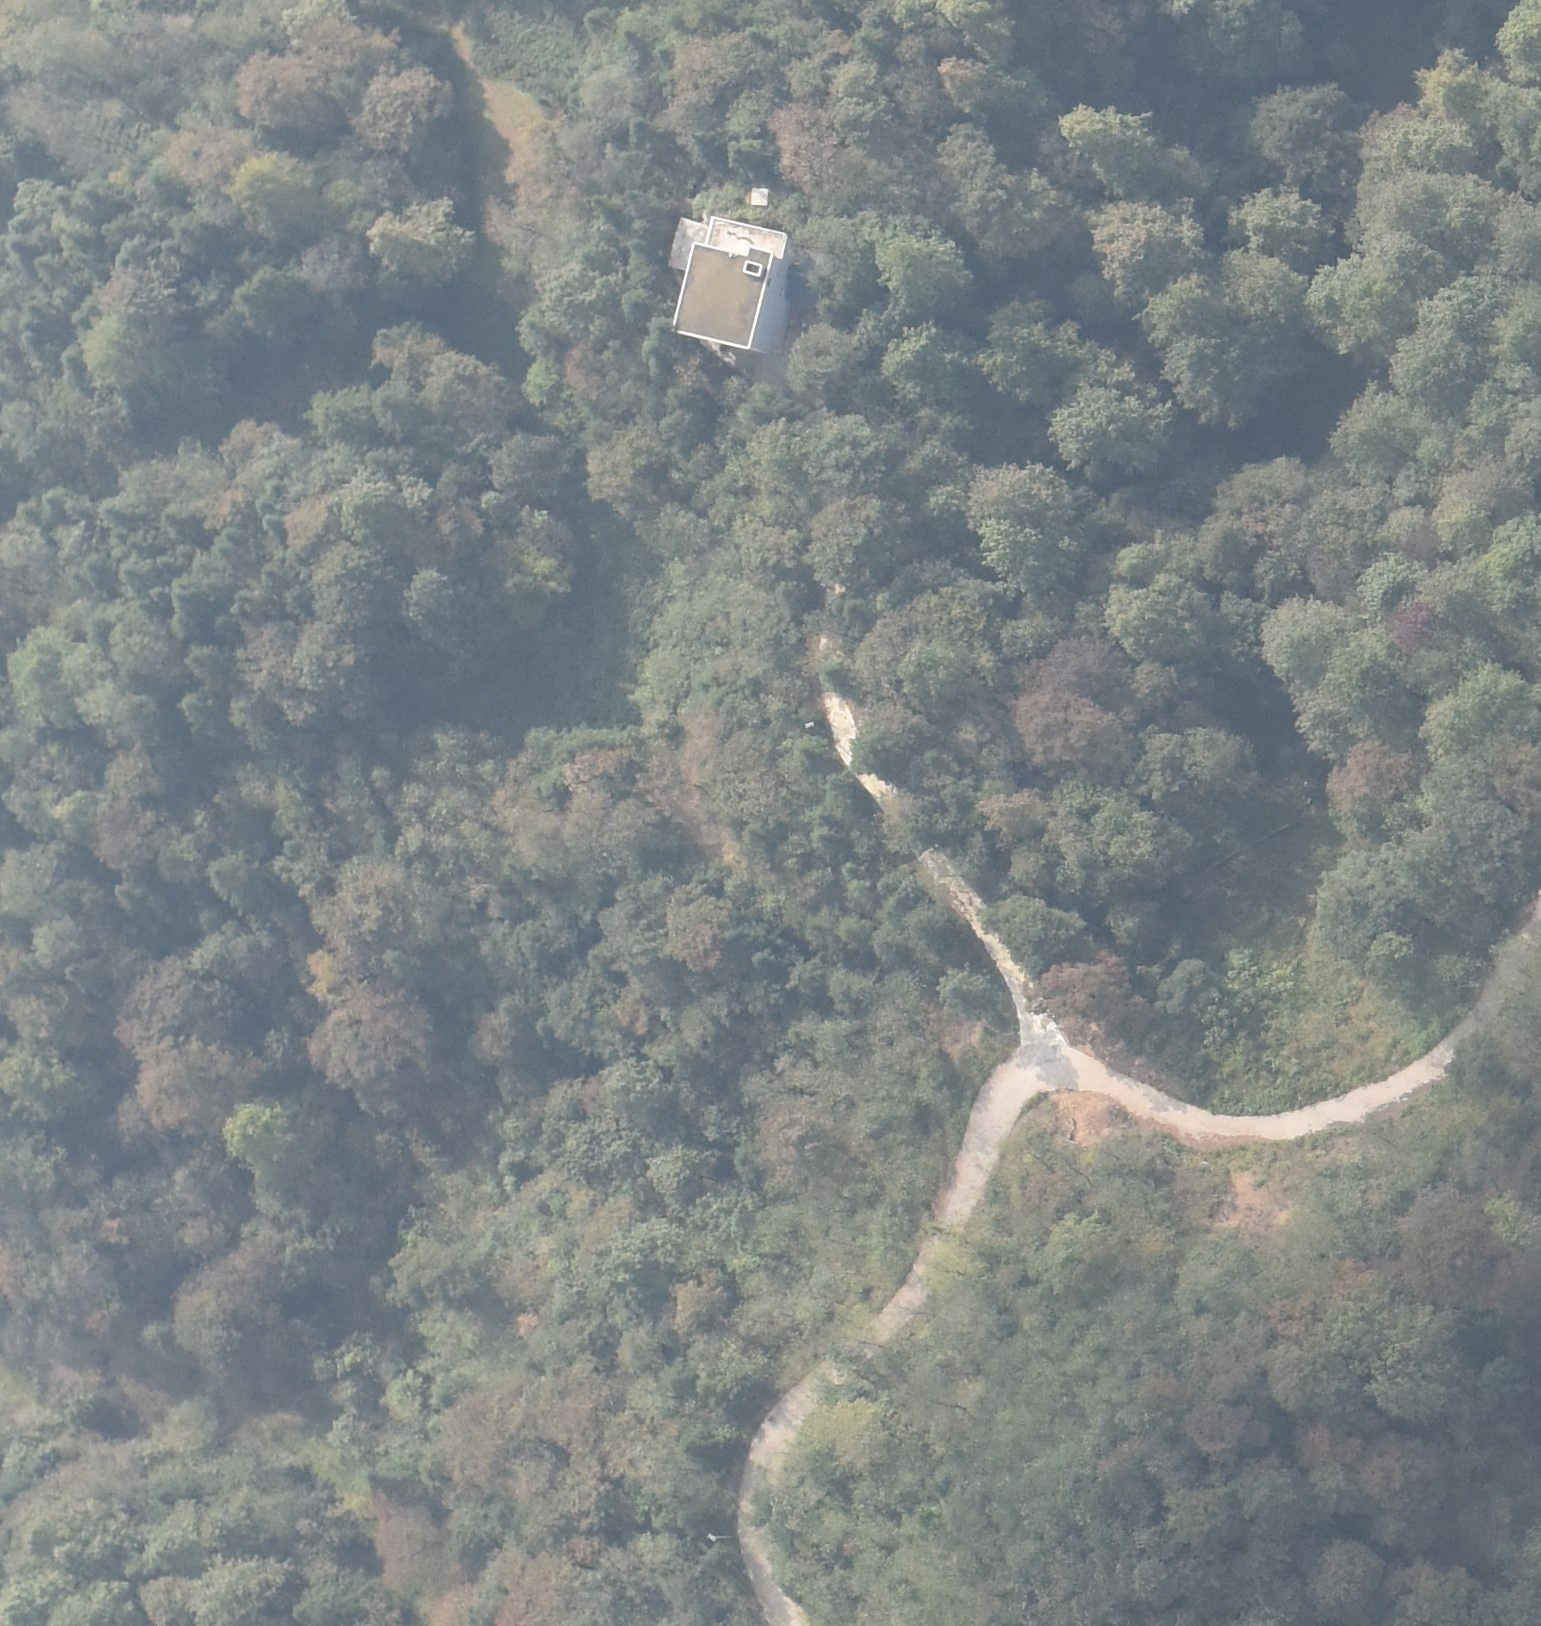building: (671, 216, 786, 349)
